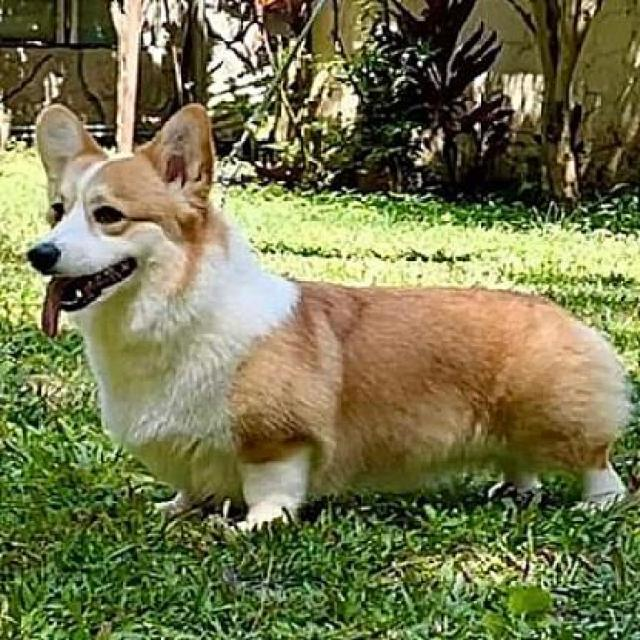Dog: (26, 100, 639, 534)
